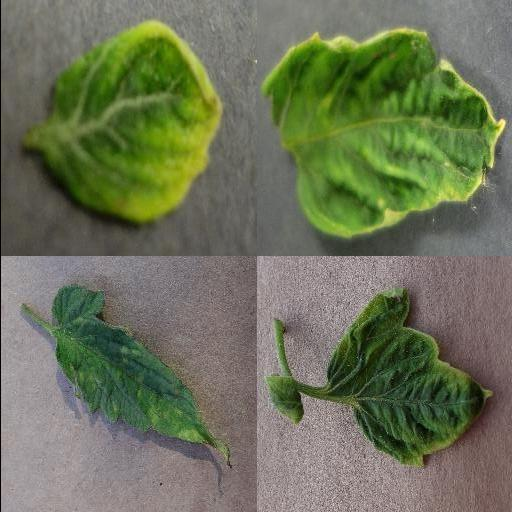Leaf Mold: (49, 285, 233, 462)
Yellow Leaf Curl Virus: (261, 29, 505, 239), (49, 23, 223, 223), (325, 290, 493, 471)
